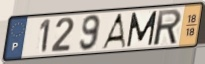1: (38, 18, 51, 55)
2: (50, 16, 76, 54)
9: (79, 14, 102, 52)
A: (100, 12, 127, 50)
M: (126, 9, 159, 48)
R: (153, 8, 183, 48)
